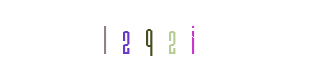2: (109, 0, 189, 80), (117, 0, 197, 80)
I: (122, 0, 202, 80)
L: (80, 0, 160, 80)
Q: (109, 0, 189, 80)
